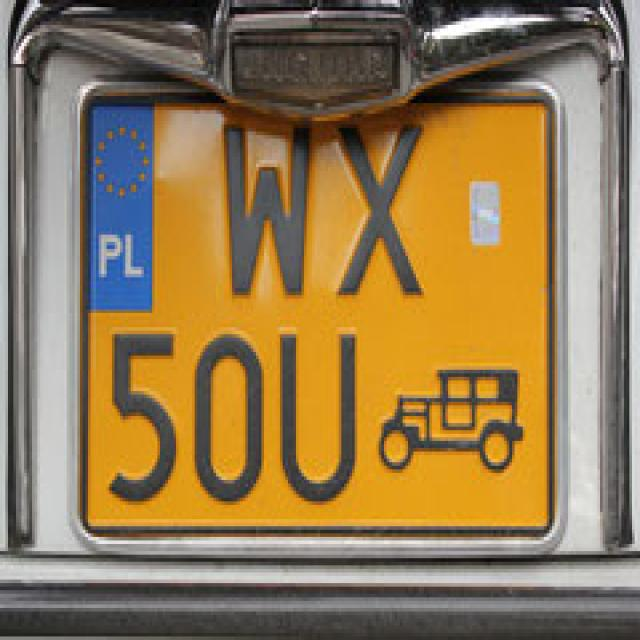pl_license_plate: (85, 96, 544, 526)
